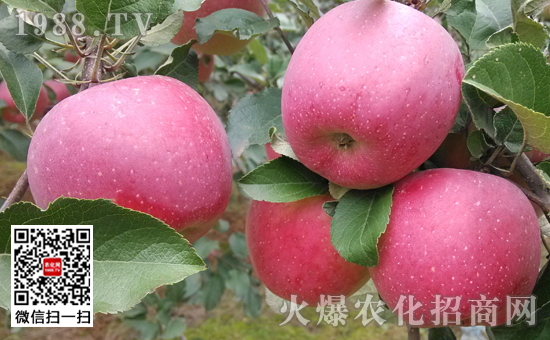apple: (284, 2, 464, 186), (370, 166, 540, 327)
obscured(1)_apple: (25, 73, 232, 244), (246, 177, 376, 308)
